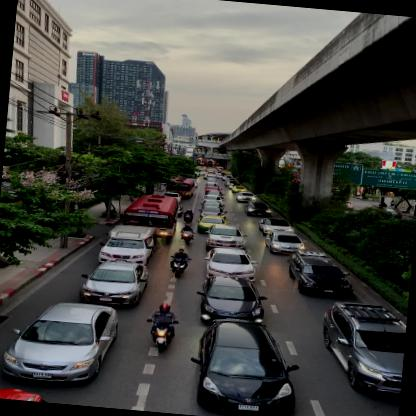bus: (123, 191, 182, 244)
car: (188, 317, 299, 415), (3, 296, 119, 388), (316, 300, 407, 400), (76, 257, 147, 309), (289, 250, 354, 300), (206, 276, 271, 324), (99, 222, 157, 268), (200, 245, 256, 282), (204, 224, 246, 252), (262, 231, 306, 256), (254, 216, 293, 238), (194, 214, 228, 236), (240, 200, 273, 218)
motorcycle: (146, 304, 180, 354), (169, 247, 193, 280), (180, 223, 196, 244), (178, 208, 194, 224)
